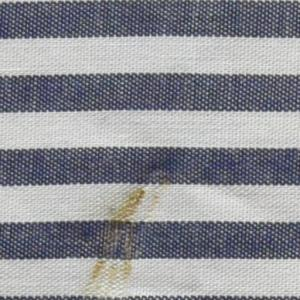Oil Stain: (75, 174, 176, 298)
